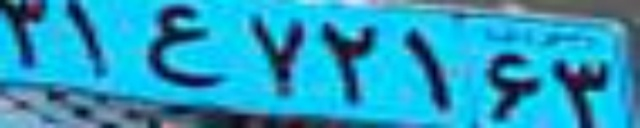1: (402, 27, 452, 110), (61, 0, 107, 76)
2: (321, 19, 379, 103)
3: (551, 58, 609, 127), (0, 0, 49, 67)
6: (481, 51, 542, 120)
7: (245, 15, 306, 98)
ain: (142, 2, 226, 88)
